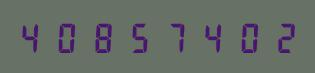eight: (87, 20, 121, 53)
five: (122, 20, 156, 53)
four: (17, 20, 51, 53), (192, 20, 226, 53)
seven: (157, 20, 191, 53)
two: (262, 20, 296, 53)
zero: (52, 20, 86, 53), (227, 20, 261, 53)
